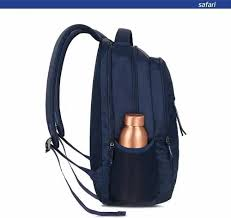backpack: (44, 23, 186, 216)
